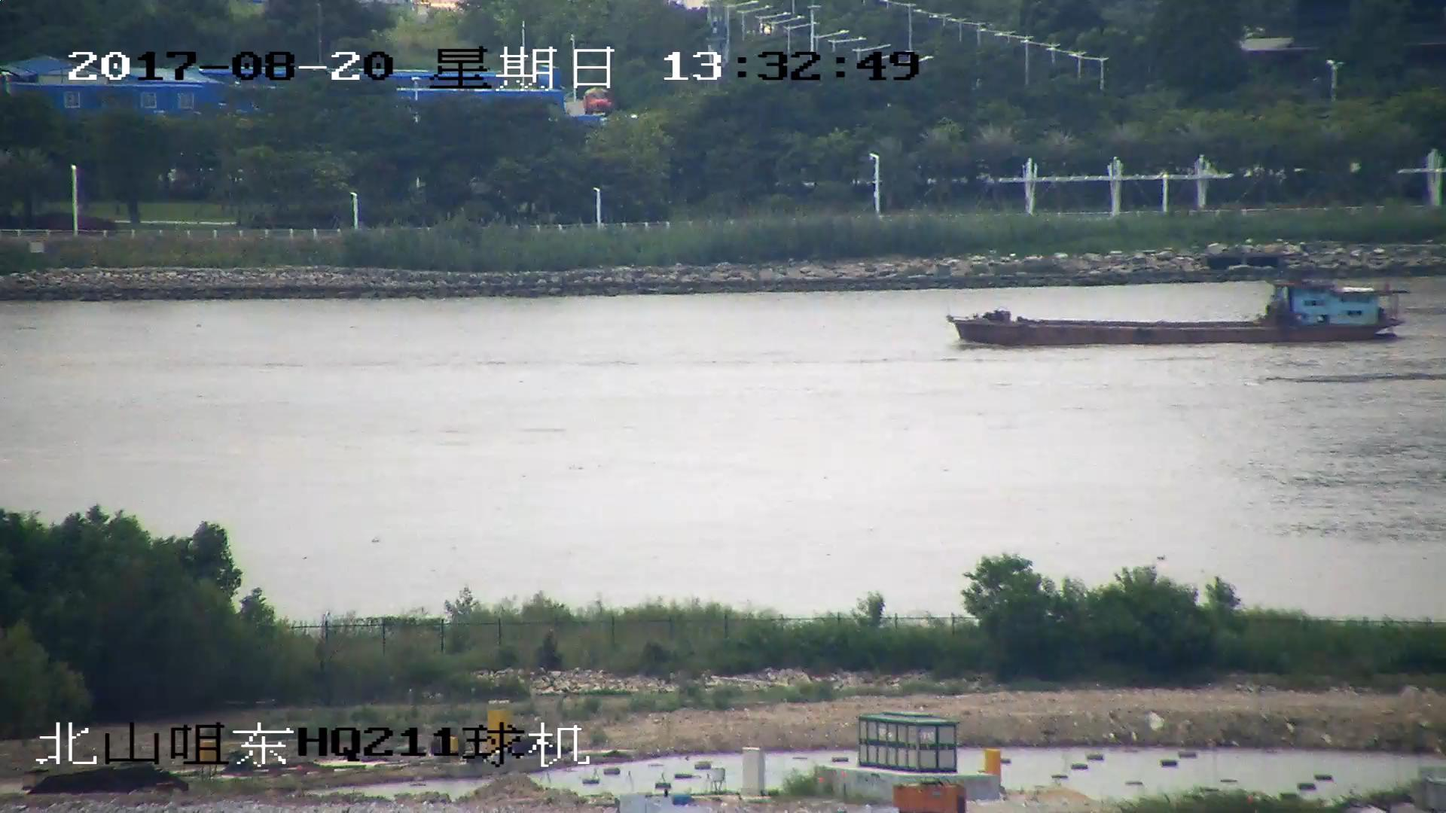bulk cargo carrier: (943, 285, 1405, 340)
